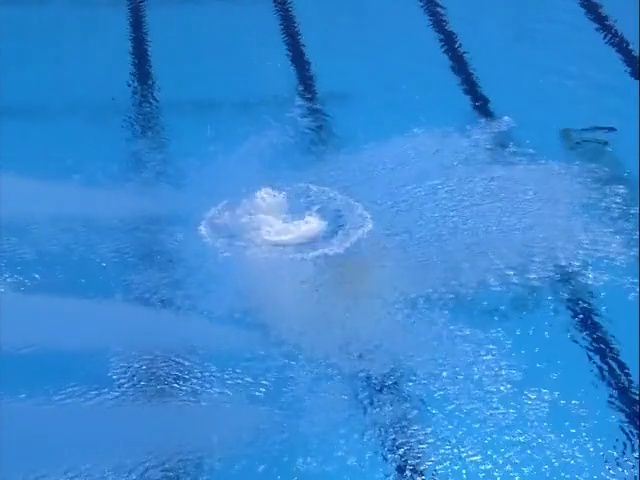splash: (200, 180, 375, 263)
